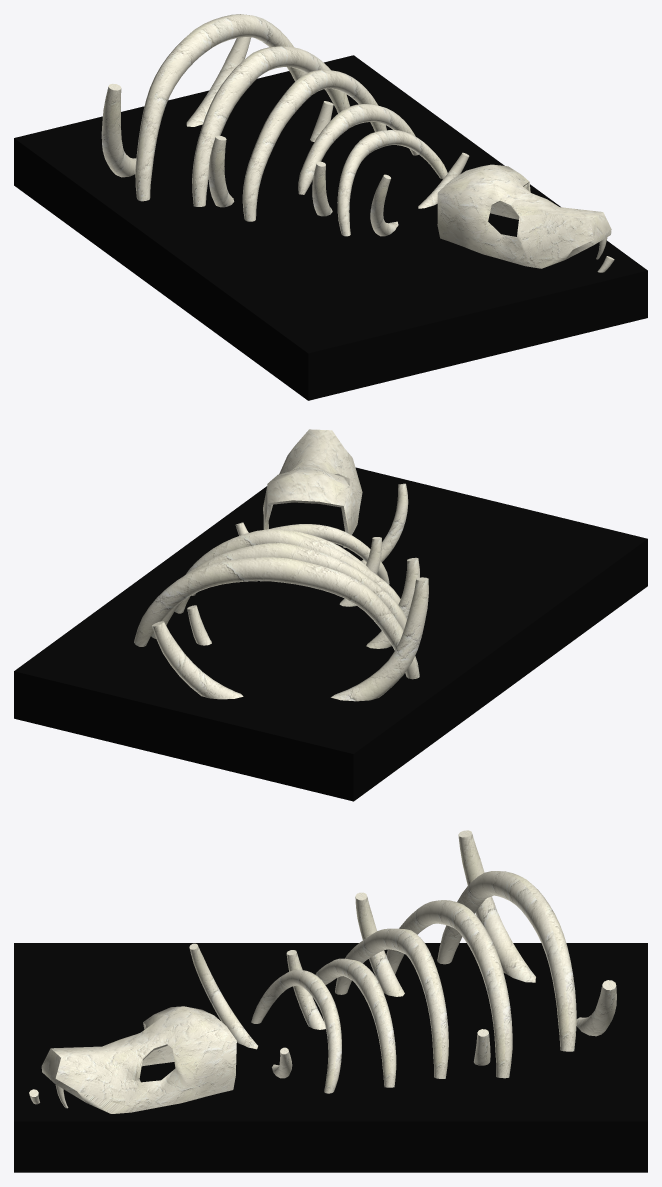
The model's file is DinosaurBones.FBX.
3 views of the same model, one above another, from view 1: azimuth 30°, elevation 25°; view 2: azimuth 150°, elevation 25°; view 3: azimuth 270°, elevation 25° (orthographic). The views are drawn at different scales.
Parts seen in each view (by area): view 1: Bones; view 2: Bones; view 3: Bones.
Part boxes in pixels (x1,y1,x2,y2): Bones: [14, 14, 647, 400]; Bones: [14, 429, 647, 801]; Bones: [14, 830, 647, 1172].
Bounding box in the file's own units: 23.62 × 35.43 × 11.21.
Materials: 3 (2 with a texture image).
